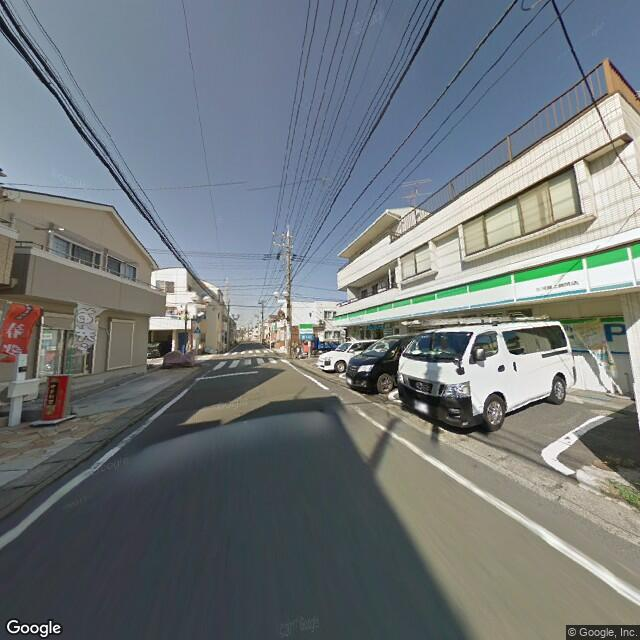family_mart: (338, 242, 638, 327), (296, 322, 314, 344)
